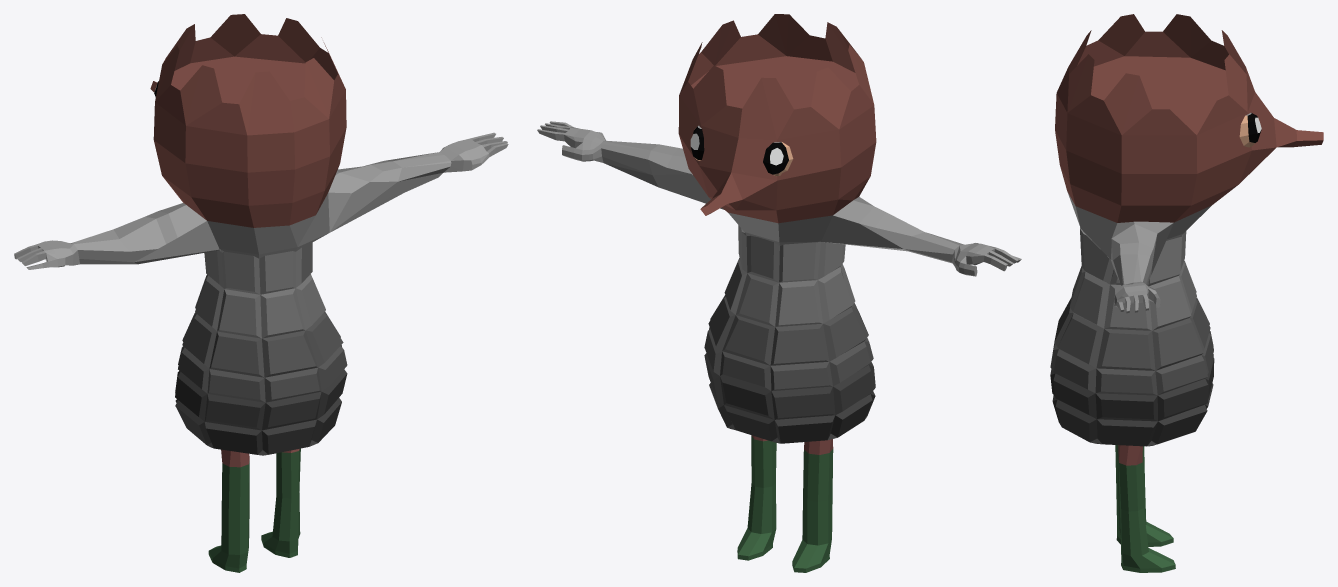
File: Tree Tower 3D Model.fbx
3 views of the same model, side by side, from view 1: azimuth 30°, elevation 25°; view 2: azimuth 150°, elevation 25°; view 3: azimuth 270°, elevation 25° (orthographic).
Parts seen in each view (by area): view 1: Sphere.001; view 2: Sphere.001; view 3: Sphere.001.
Boxes of the visible parts, <box> form: Sphere.001: <box>14,14,508,572</box>; Sphere.001: <box>537,14,1021,572</box>; Sphere.001: <box>1050,14,1323,572</box>.
Size of the model in its own units: 516 by 527 by 255.
